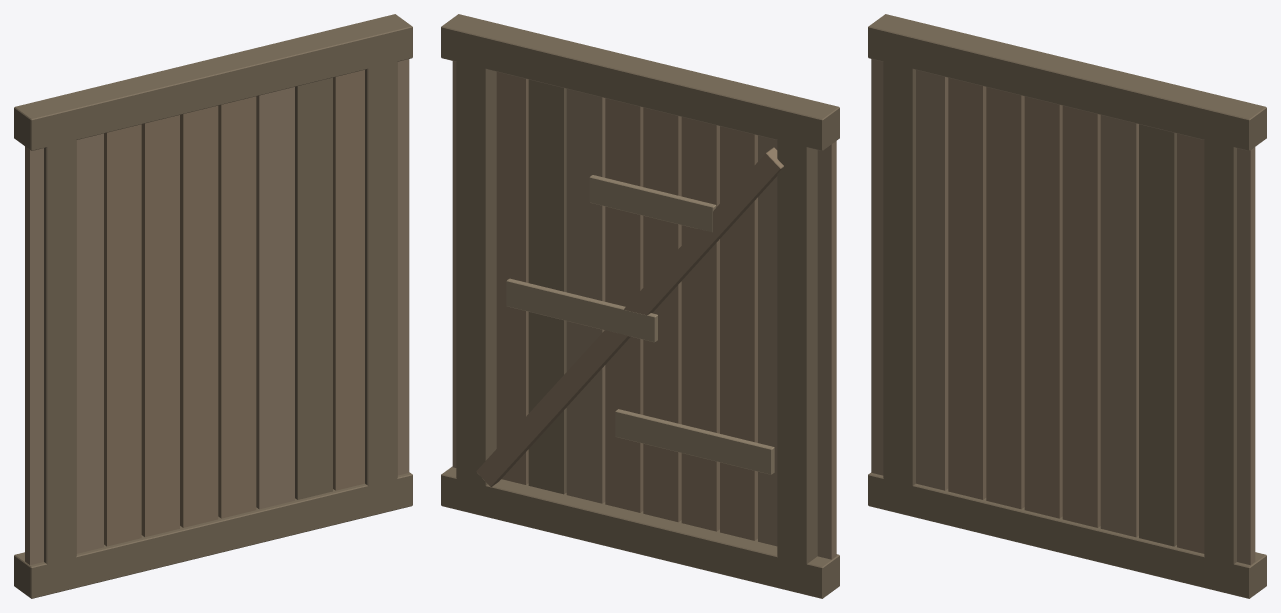
File: env_wall_plank_repaired_c.glb
3 renders of one model, left to right at view 1: azimuth 30°, elevation 25°; view 2: azimuth 150°, elevation 25°; view 3: azimuth 330°, elevation 25°, orthographic.
Parts seen in each view (by area): view 1: material_0, material_2, material_1; view 2: material_2, material_0, material_1, material_3; view 3: material_2, material_0, material_1.
Part boxes in pixels (bbox=[...]): material_0: bbox=[104, 70, 364, 546]; material_2: bbox=[14, 14, 412, 598]; material_1: bbox=[25, 59, 409, 565]; material_2: bbox=[441, 14, 839, 598]; material_0: bbox=[476, 72, 783, 540]; material_1: bbox=[452, 61, 836, 559]; material_3: bbox=[506, 175, 774, 474]; material_2: bbox=[868, 14, 1266, 598]; material_0: bbox=[948, 77, 1204, 553]; material_1: bbox=[871, 59, 1255, 565].
Size of the model in its own units: 2 by 2.4 by 0.19.
